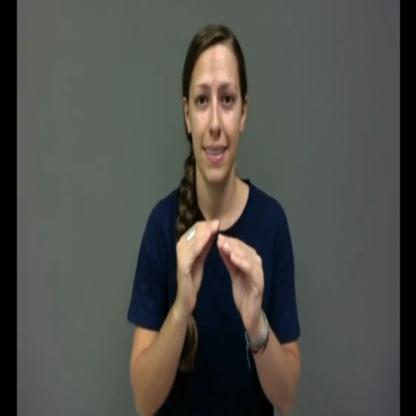Fix: (128, 21, 301, 416)
